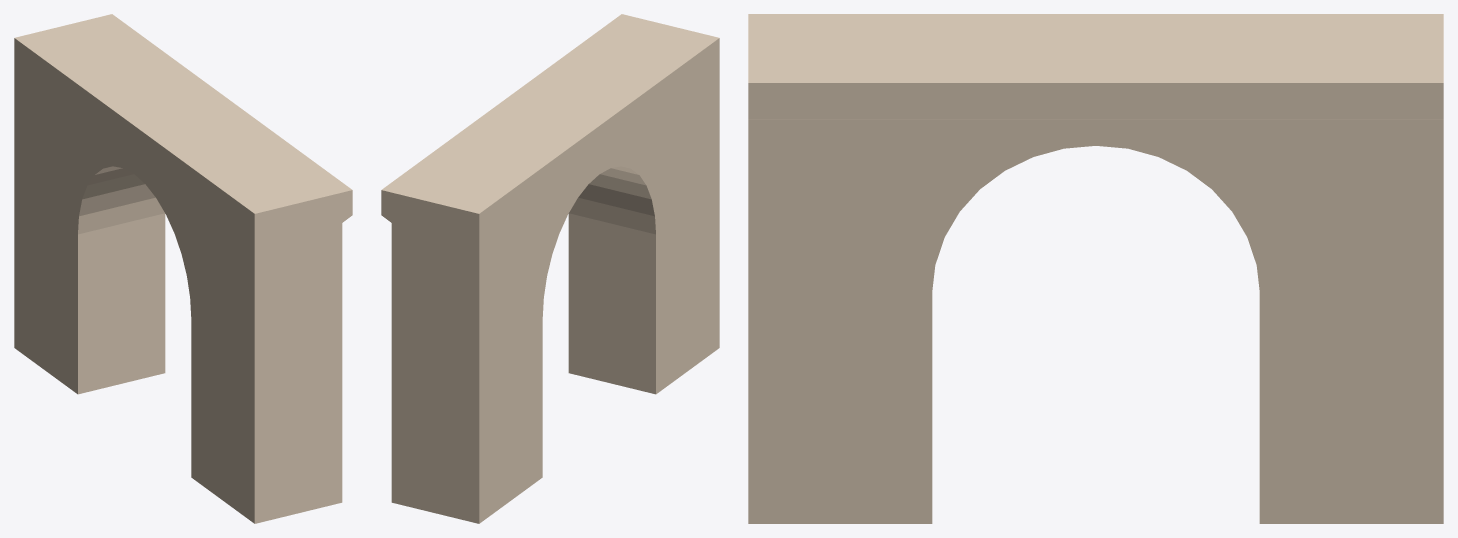
The model's file is BC_DoorWall_B.fbx.
3 renders of one model, left to right at view 1: azimuth 30°, elevation 25°; view 2: azimuth 150°, elevation 25°; view 3: azimuth 270°, elevation 25°, orthographic. The views are drawn at different scales.
Parts seen in each view (by area): view 1: BC_DoorWall_B; view 2: BC_DoorWall_B; view 3: BC_DoorWall_B.
Boxes of the visible parts, box(x1,y1,x2,y2) form: BC_DoorWall_B: box(14, 14, 352, 523); BC_DoorWall_B: box(381, 14, 719, 523); BC_DoorWall_B: box(748, 14, 1443, 523).
Size of the model in its own units: 391 by 1183 by 1663.
